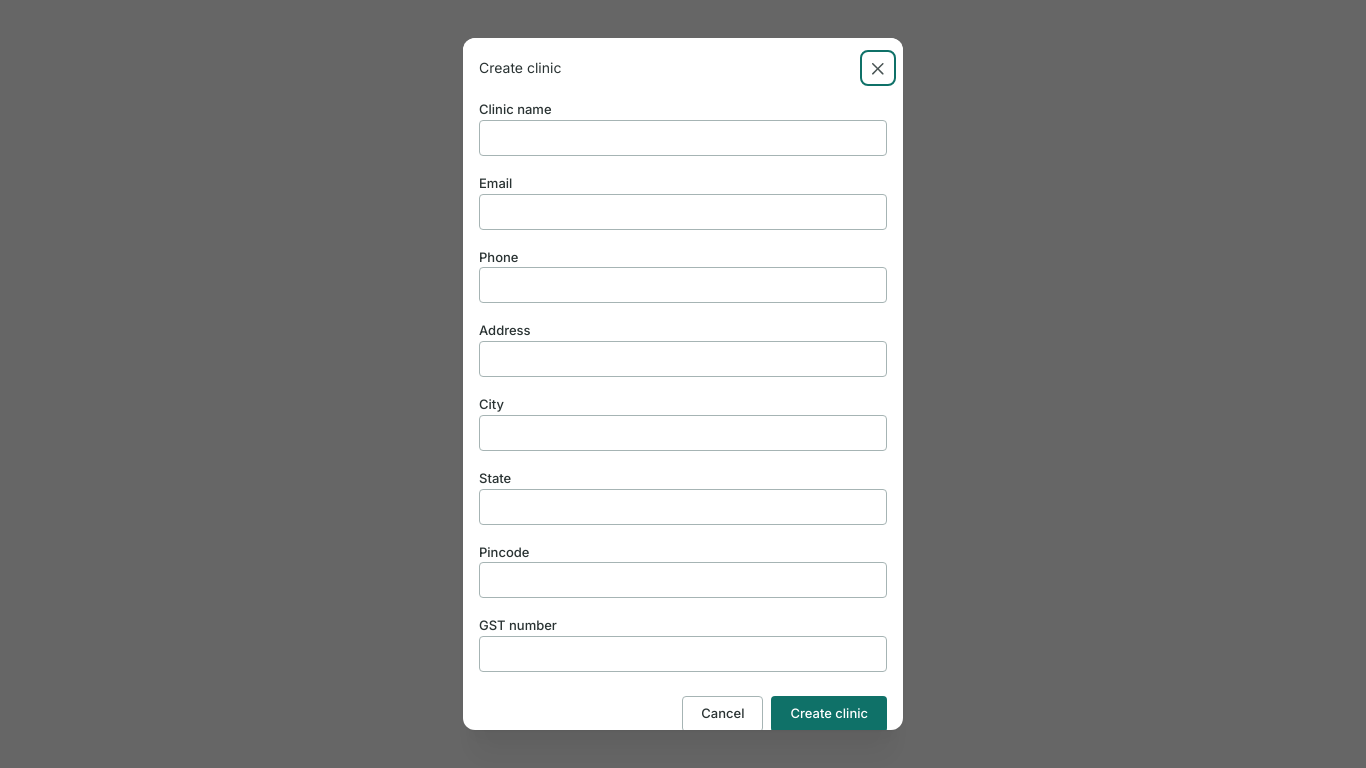
Test case: ClinicFormDialog › shows the softer ask-your-owner copy for a non-owner caller
Type "North Clinic" into the field labelled "Clinic name" at [683, 138], box left=479, top=120, right=887, bottom=156
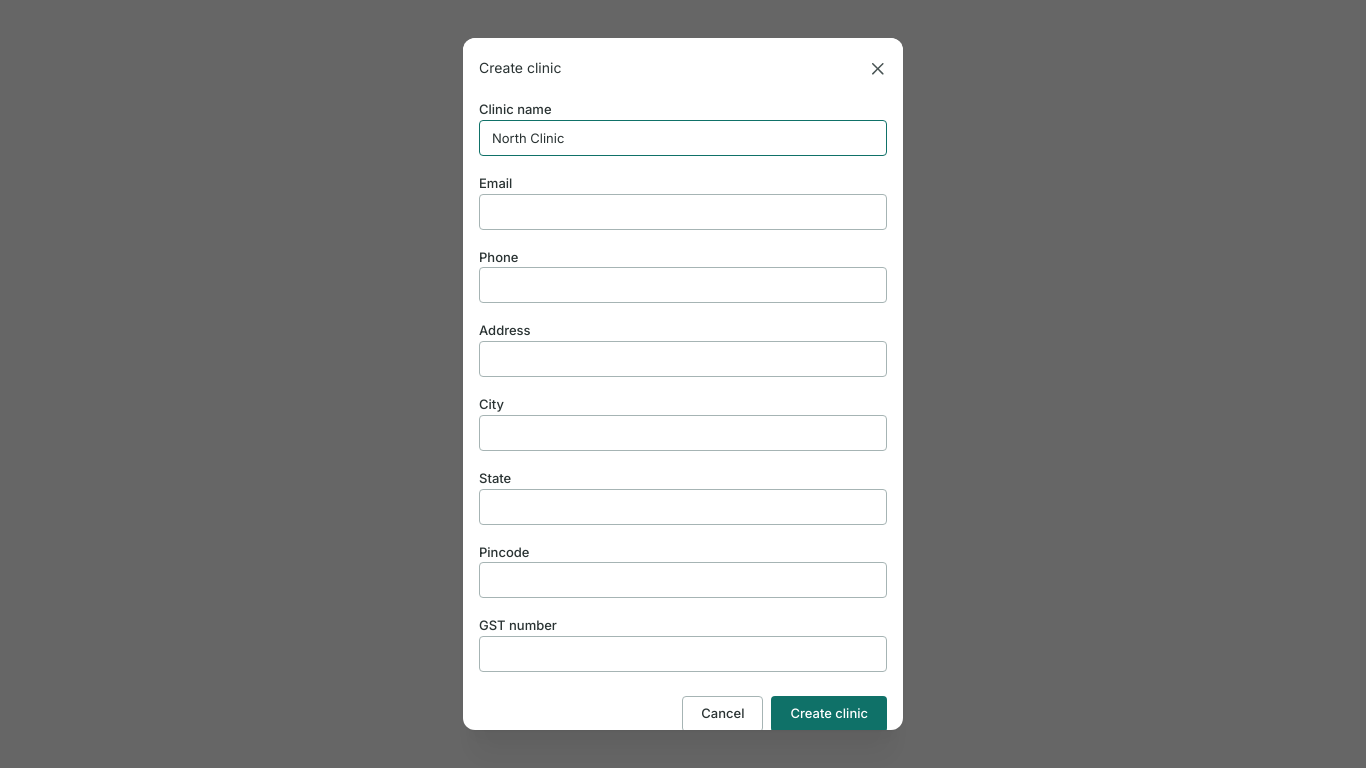
Click the button "Create clinic" at [829, 714], box left=772, top=696, right=887, bottom=732
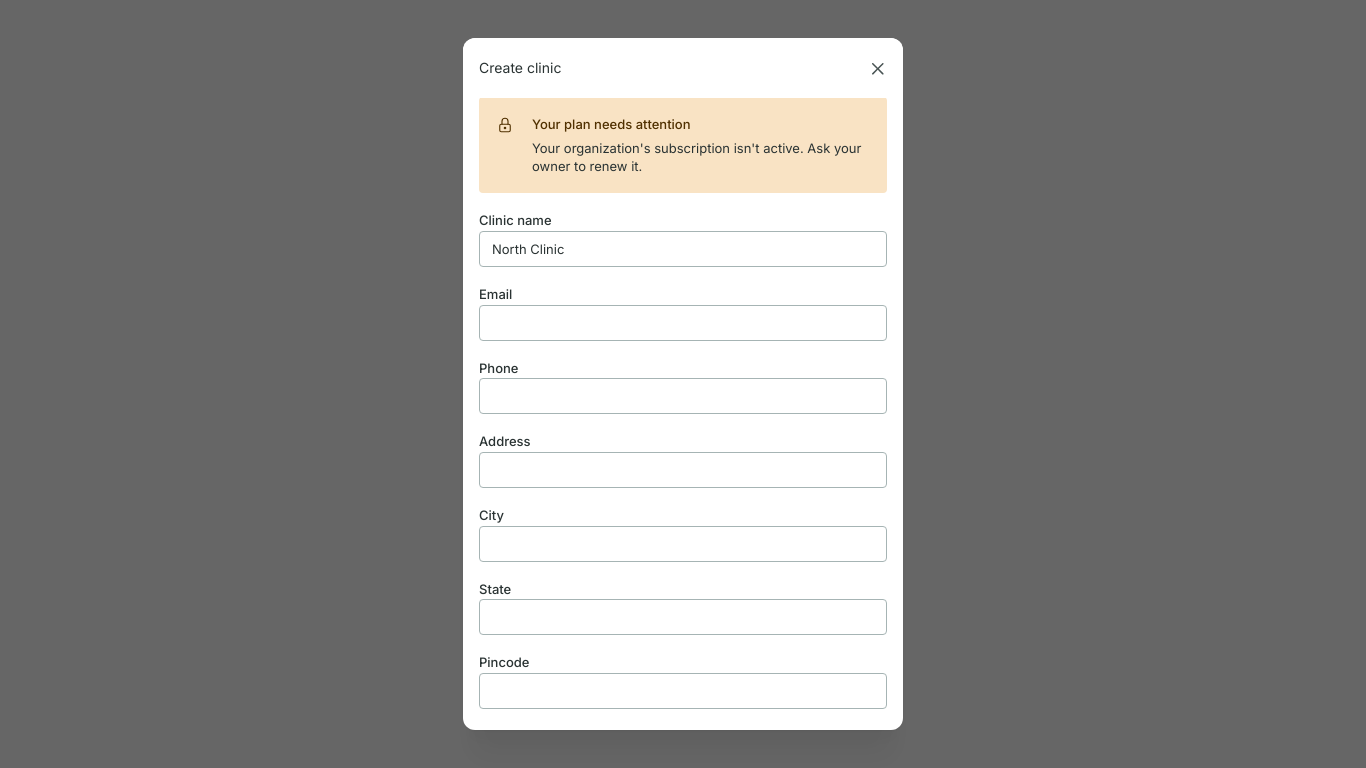
Check: the text "Your organization's subscription isn't active. Ask your owner to renew it." is shown, box left=532, top=138, right=870, bottom=176
